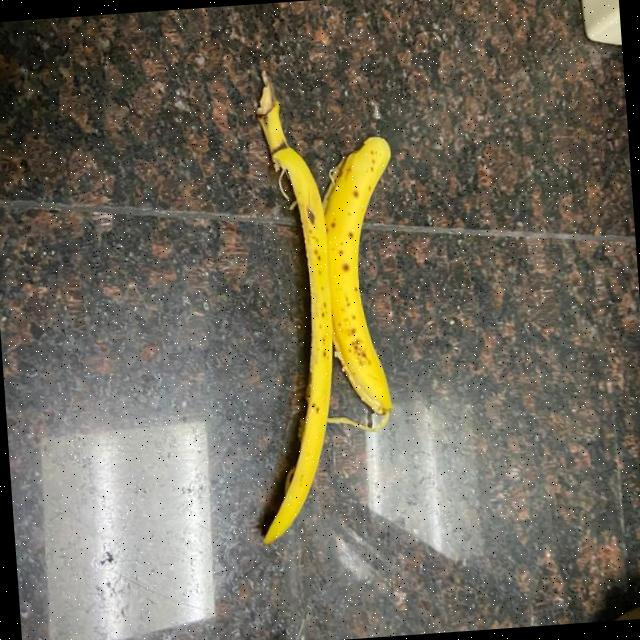banana-peel: (228, 64, 348, 546), (314, 132, 410, 432)
